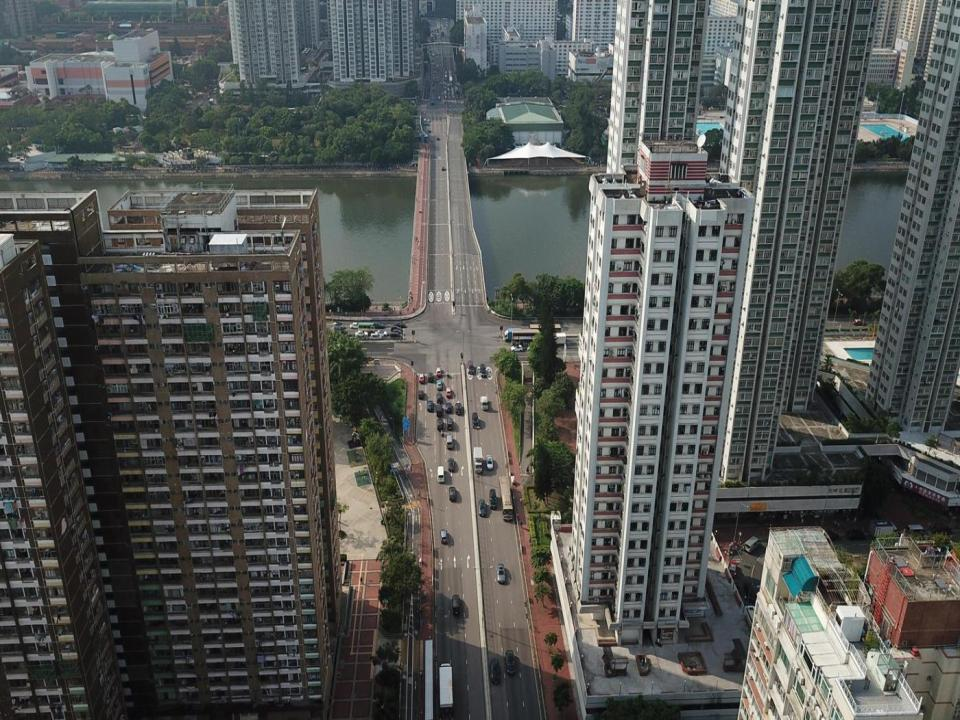bus: (498, 476, 514, 520), (510, 328, 546, 346), (528, 322, 562, 340), (357, 320, 376, 332)
car: (504, 649, 516, 674), (490, 658, 500, 683), (488, 488, 498, 510), (727, 560, 738, 580), (495, 562, 505, 583), (451, 594, 461, 615), (439, 528, 449, 545), (478, 499, 487, 517), (472, 411, 480, 430), (479, 395, 489, 410), (478, 362, 486, 378), (486, 454, 494, 470), (370, 322, 385, 330), (466, 360, 474, 375), (426, 399, 434, 413), (446, 417, 454, 431), (447, 457, 455, 471), (449, 486, 456, 502), (436, 403, 443, 418), (370, 332, 383, 340), (390, 324, 403, 332), (510, 344, 523, 352), (526, 344, 539, 352), (436, 418, 444, 431), (444, 401, 452, 414), (333, 321, 344, 330), (392, 321, 406, 328), (455, 402, 462, 416), (355, 330, 368, 337), (375, 329, 388, 336), (427, 371, 434, 384), (435, 379, 443, 390), (436, 392, 443, 404), (350, 321, 360, 329), (390, 332, 403, 338), (445, 386, 452, 397), (418, 389, 424, 400), (391, 329, 404, 334), (436, 366, 442, 376), (419, 373, 424, 384), (440, 165, 445, 171), (426, 128, 432, 132), (436, 135, 440, 141)
truck: (439, 663, 453, 708), (502, 326, 522, 342), (472, 446, 483, 473), (550, 332, 566, 345)
van: (743, 534, 761, 554), (437, 465, 445, 483), (446, 434, 453, 449)
